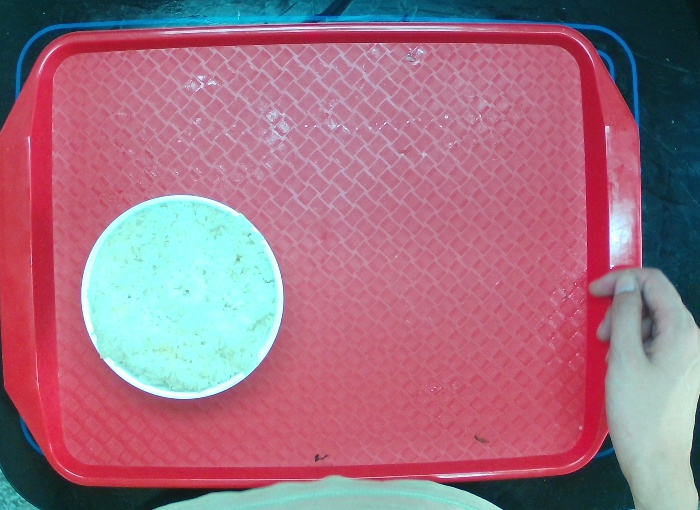YKMZ-Fan_Wan: (78, 194, 284, 402)
